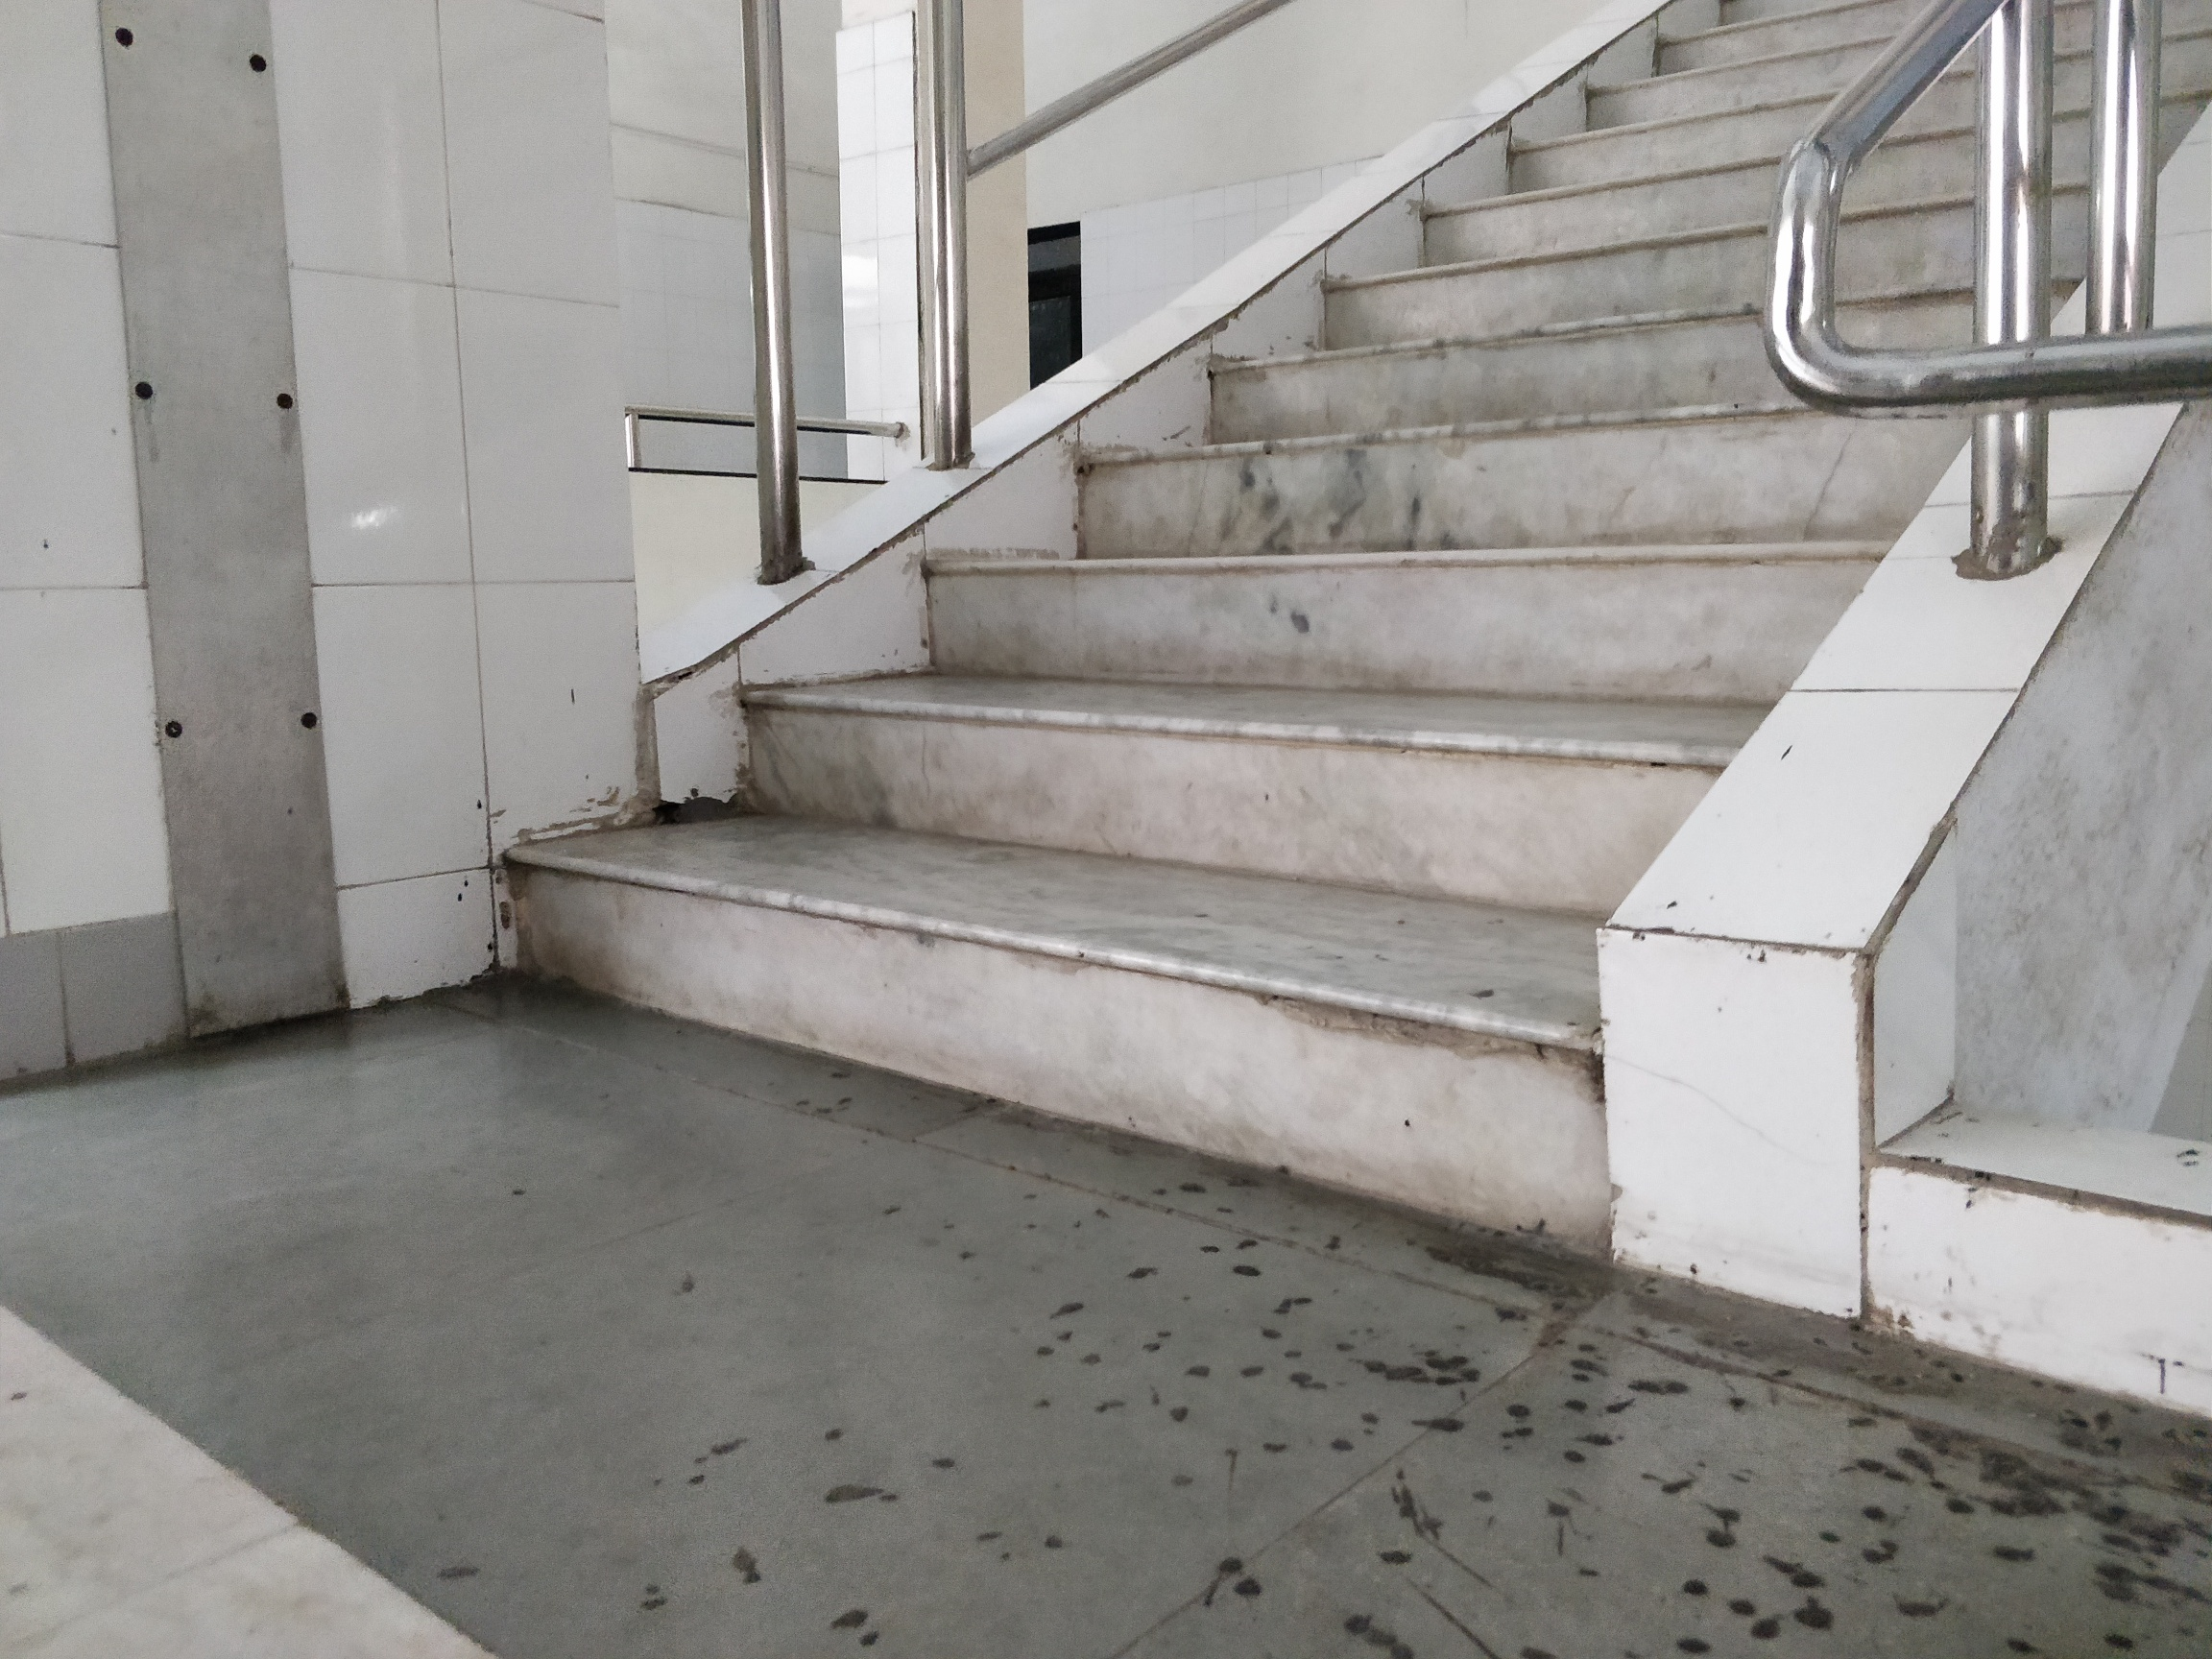stairs_up: (399, 2, 2052, 1236)
